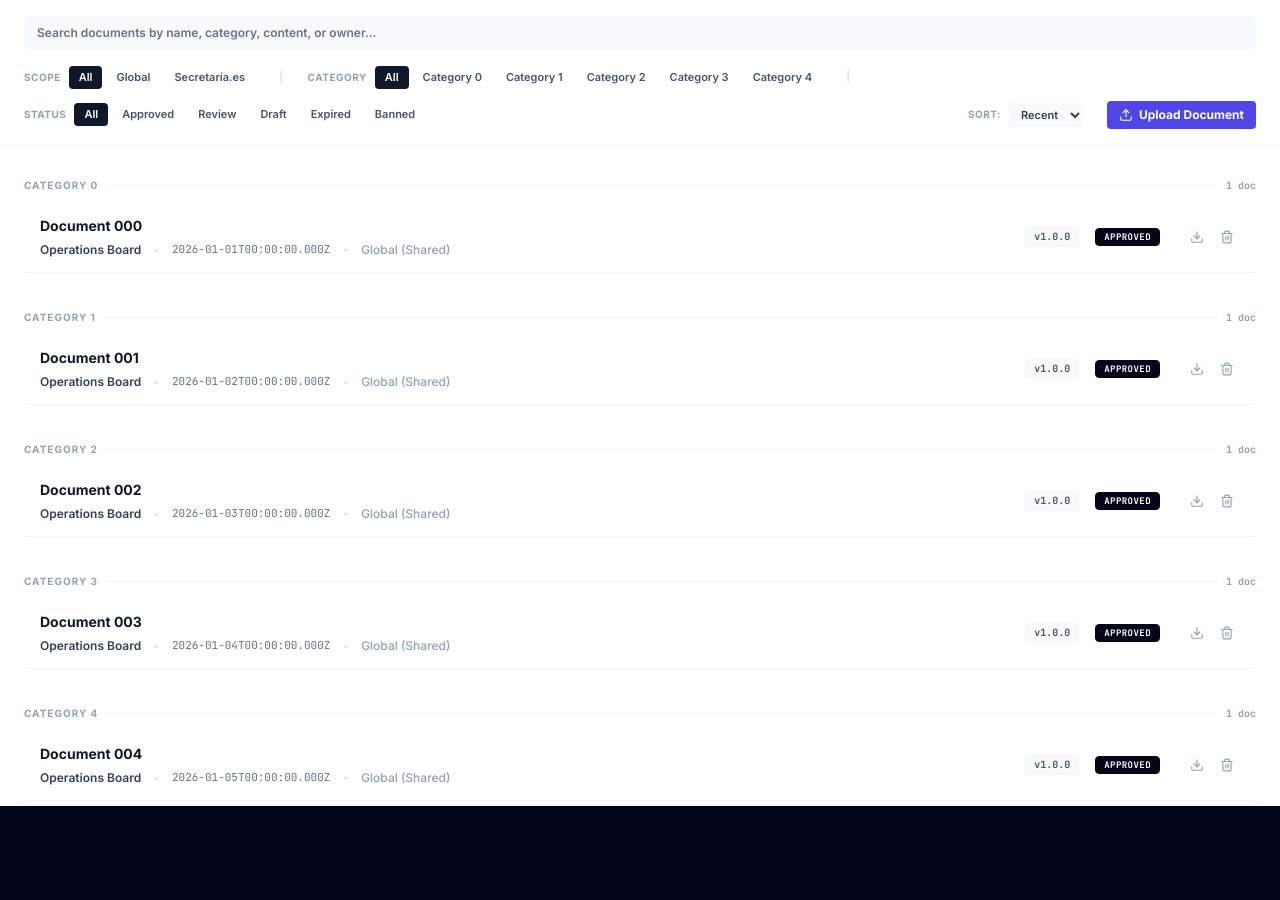
Test case: DocList virtualization › opens the delete-confirm affordance for a rendered row
Click the button named "Delete " at (1227, 237), box [1214,224,1240,250]
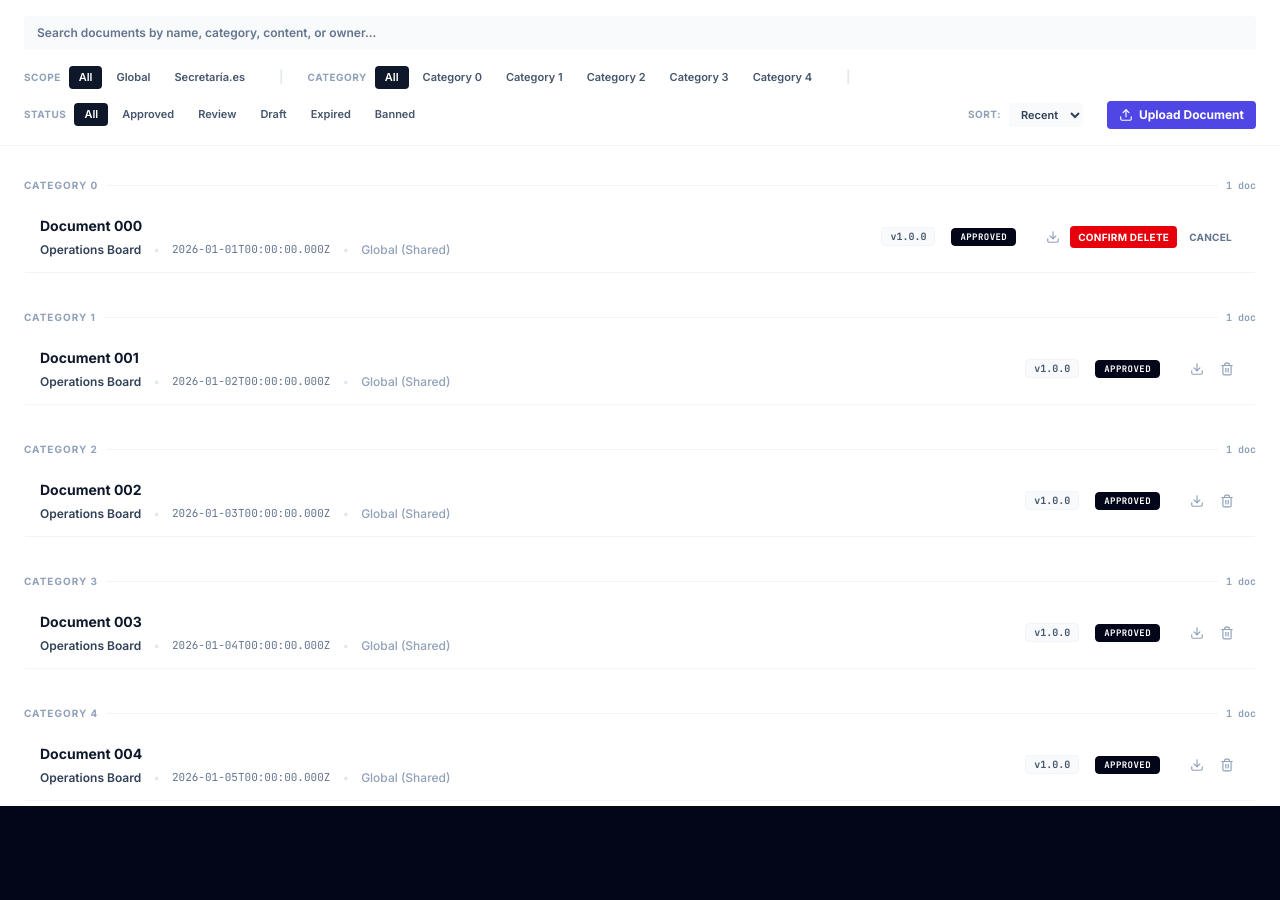
Expected: the button "Confirm delete" is shown, [1070,226,1177,248]
